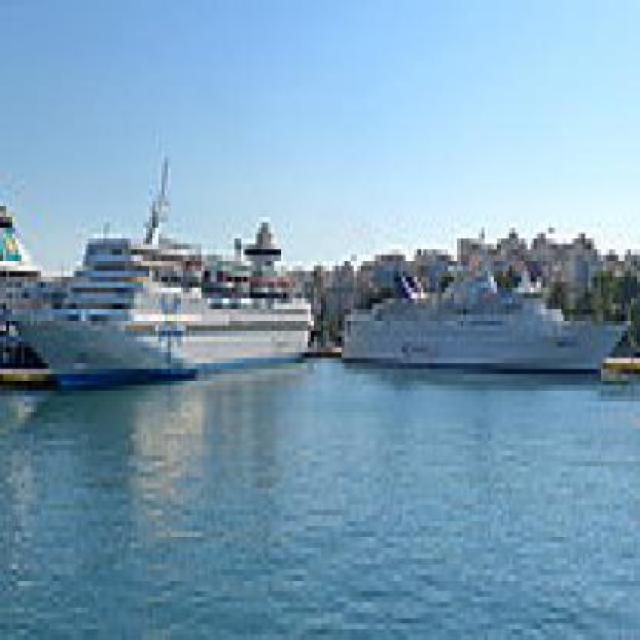cruise: (20, 180, 324, 397)
